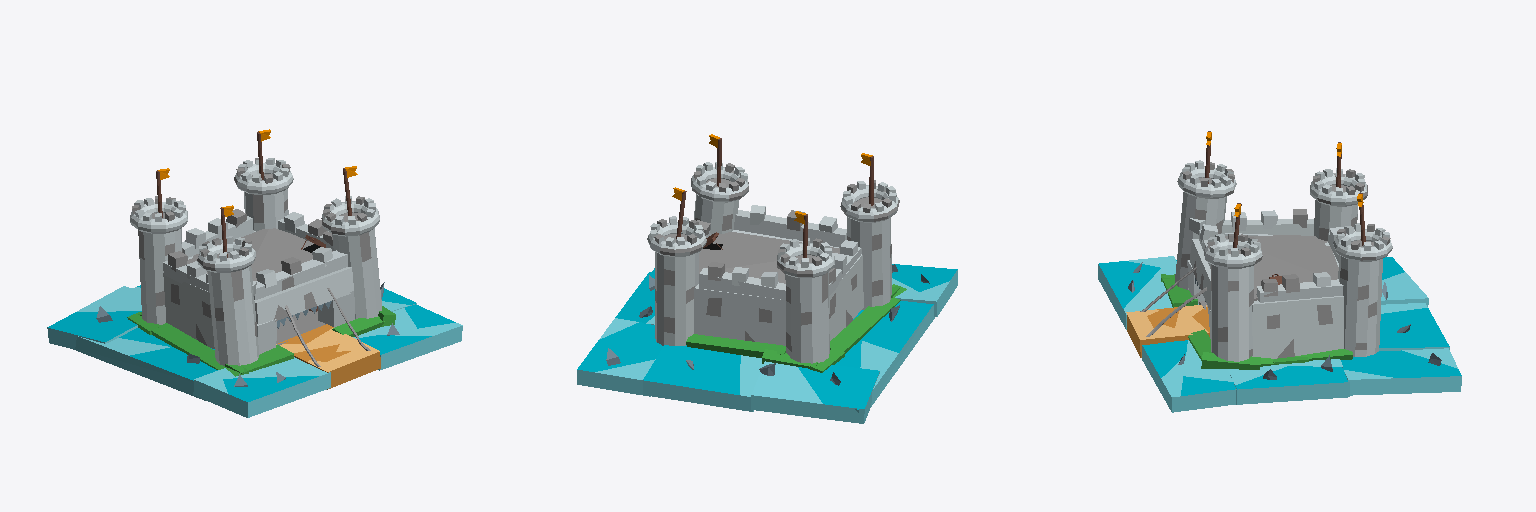
3 views of the same model, side by side, from view 1: azimuth 30°, elevation 25°; view 2: azimuth 150°, elevation 25°; view 3: azimuth 270°, elevation 25° (orthographic).
Visible parts, largest first — view 1: group[number redacted], group[number redacted], group[number redacted], group[number redacted], group[number redacted], group[number redacted], group[number redacted], group[number redacted], group[number redacted], group[number redacted], group[number redacted], group[number redacted] (+13 smaller); view 2: group[number redacted], group[number redacted], group[number redacted], group[number redacted], group[number redacted], group[number redacted], group[number redacted], group[number redacted], group[number redacted], group[number redacted], group[number redacted], group[number redacted] (+9 smaller); view 3: group[number redacted], group[number redacted], group[number redacted], group[number redacted], group[number redacted], group[number redacted], group[number redacted], group[number redacted], group[number redacted], group[number redacted], group[number redacted], group[number redacted] (+9 smaller).
Boxes of the visible parts, box(x1,y1,x2,y2) form: group[number redacted]: box(193, 357, 330, 417); group[number redacted]: box(73, 328, 217, 400); group[number redacted]: box(207, 253, 259, 365); group[number redacted]: box(353, 304, 462, 370); group[number redacted]: box(276, 324, 380, 389); group[number redacted]: box(47, 286, 141, 349); group[number redacted]: box(254, 267, 353, 324); group[number redacted]: box(332, 212, 381, 318); group[number redacted]: box(138, 213, 182, 324); group[number redacted]: box(163, 273, 214, 348); group[number redacted]: box(187, 228, 332, 280); group[number redacted]: box(254, 250, 347, 299); group[number redacted]: box(751, 361, 879, 423); group[number redacted]: box(643, 345, 763, 411); group[number redacted]: box(694, 284, 785, 345); group[number redacted]: box(577, 318, 663, 396); group[number redacted]: box(835, 301, 934, 412); group[number redacted]: box(785, 255, 829, 363); group[number redacted]: box(655, 234, 698, 345); group[number redacted]: box(847, 197, 891, 309); group[number redacted]: box(699, 232, 839, 283); group[number redacted]: box(892, 264, 957, 316); group[number redacted]: box(829, 254, 863, 340); group[number redacted]: box(734, 210, 846, 247); group[number redacted]: box(1252, 296, 1343, 358); group[number redacted]: box(1341, 348, 1461, 395); group[number redacted]: box(1142, 340, 1236, 412); group[number redacted]: box(1228, 359, 1349, 404); group[number redacted]: box(1211, 250, 1253, 361); group[number redacted]: box(1338, 240, 1382, 356); group[number redacted]: box(1098, 256, 1198, 329); group[number redacted]: box(1225, 235, 1338, 300); group[number redacted]: box(1378, 303, 1449, 351); group[number redacted]: box(1126, 305, 1209, 357); group[number redacted]: box(1175, 178, 1226, 289); group[number redacted]: box(1381, 257, 1428, 306).
Size of the model in its own units: 1.99 by 1.13 by 2.06.